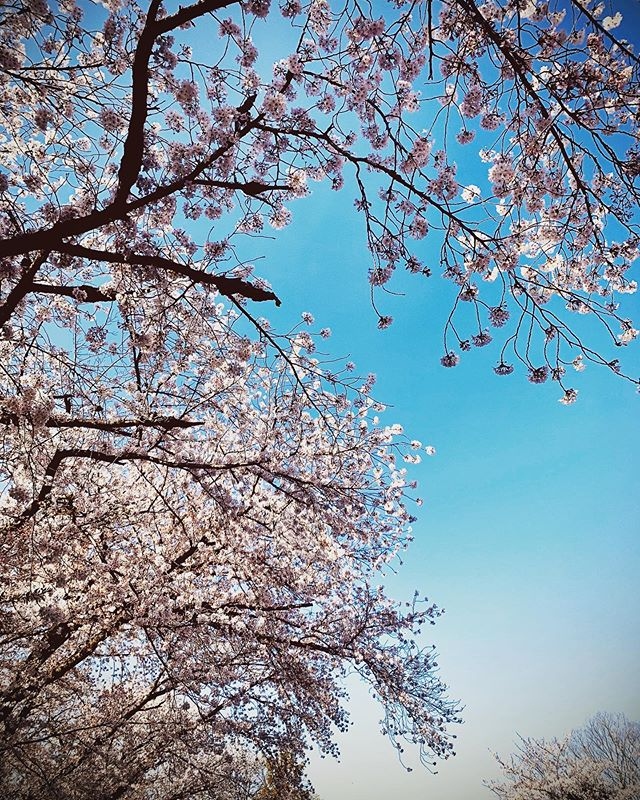sky: (299, 1, 640, 780)
tree: (11, 1, 616, 792)
